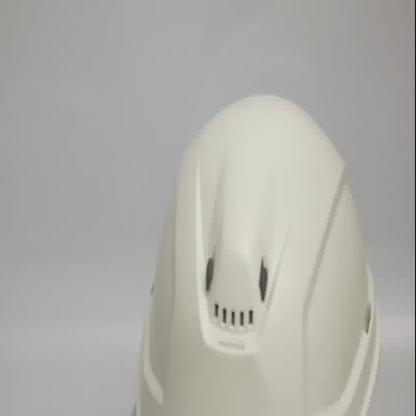helmet: (132, 88, 381, 416)
